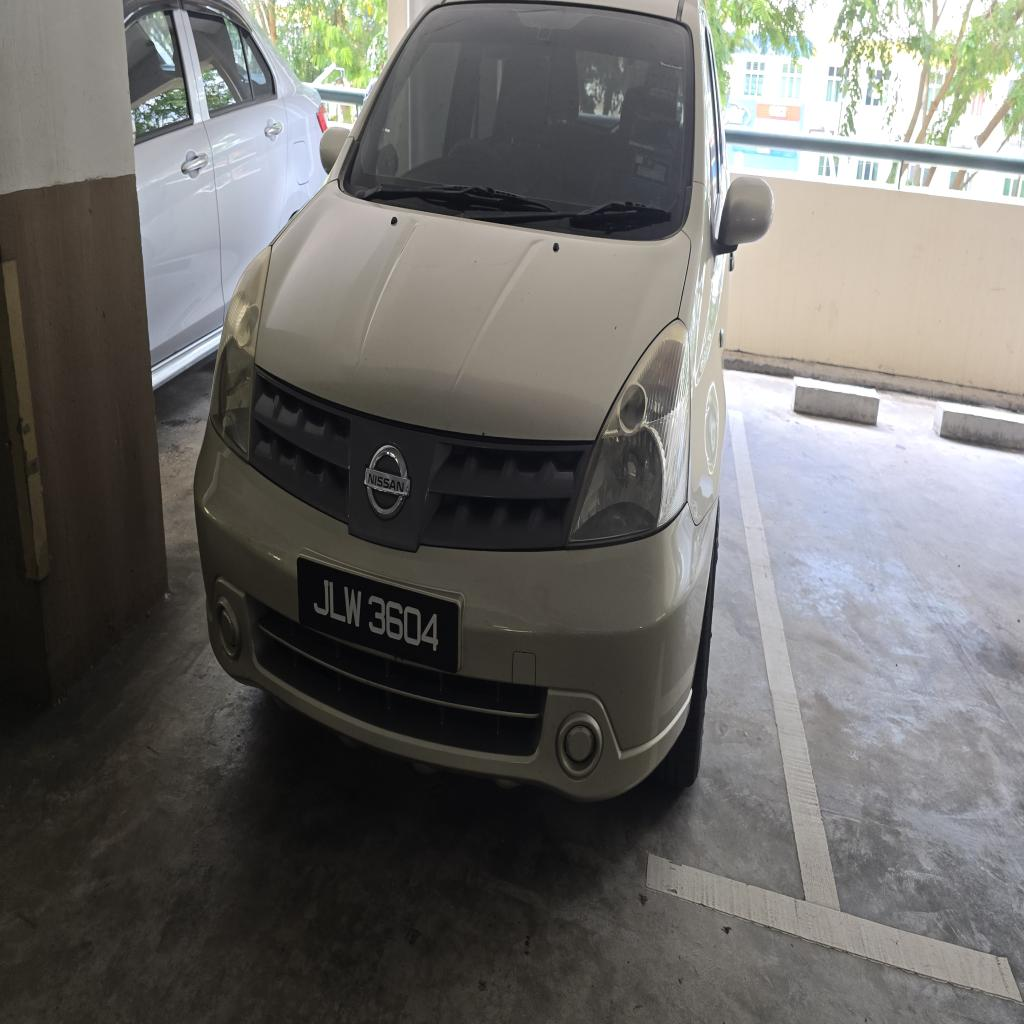car: (195, 0, 772, 798)
car plate: (298, 558, 459, 672)
